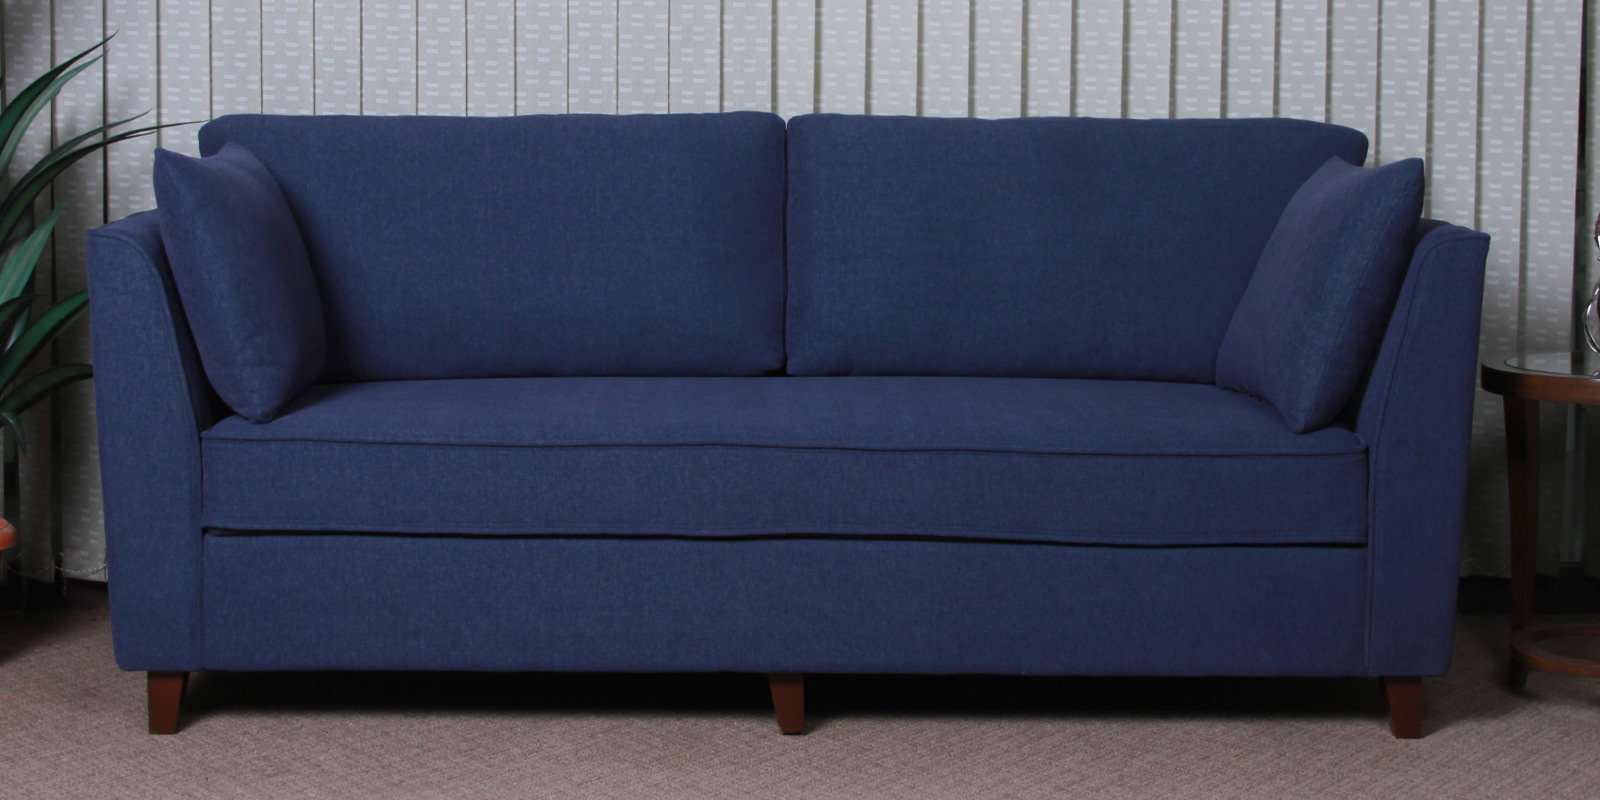Miranda Three Seater Sofa in Navy Blue Colour by CasaCraft: (90, 113, 1489, 737)
